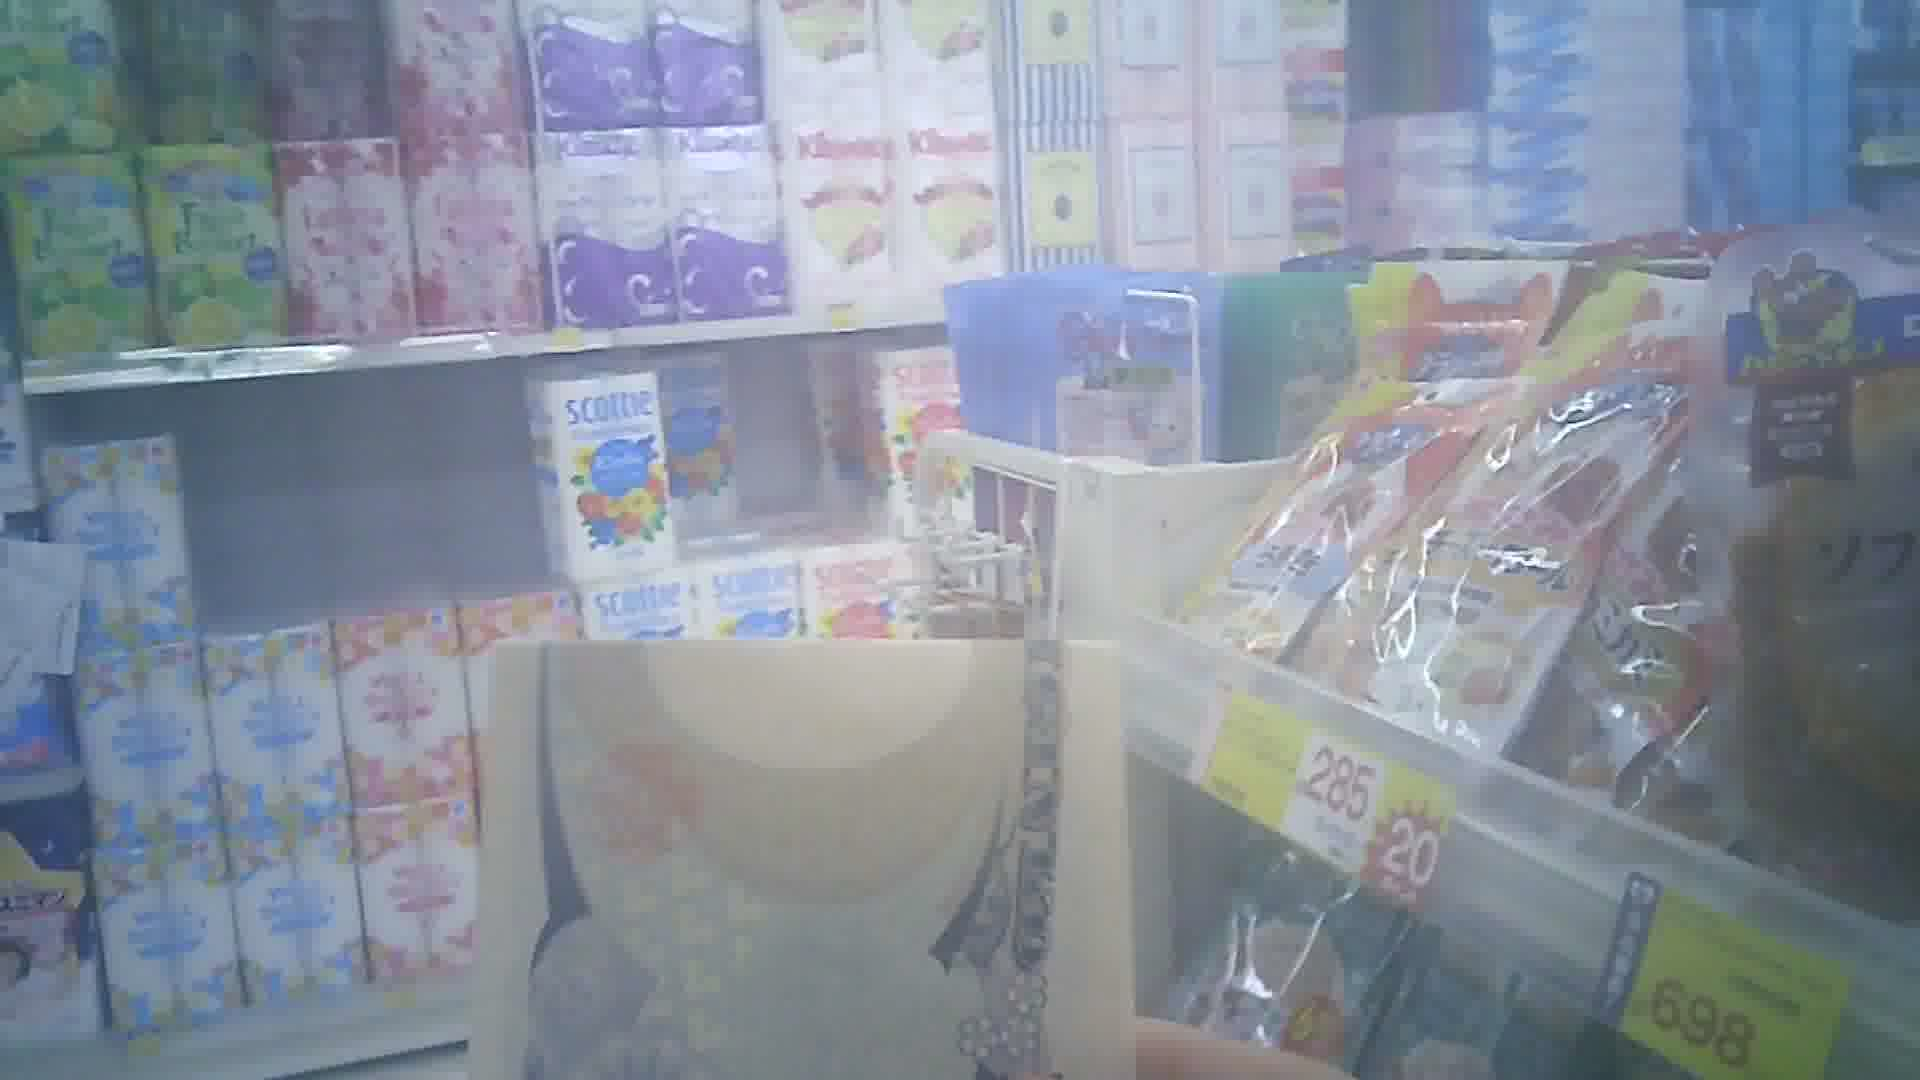1,000 Yen: (472, 621, 1135, 1073)
